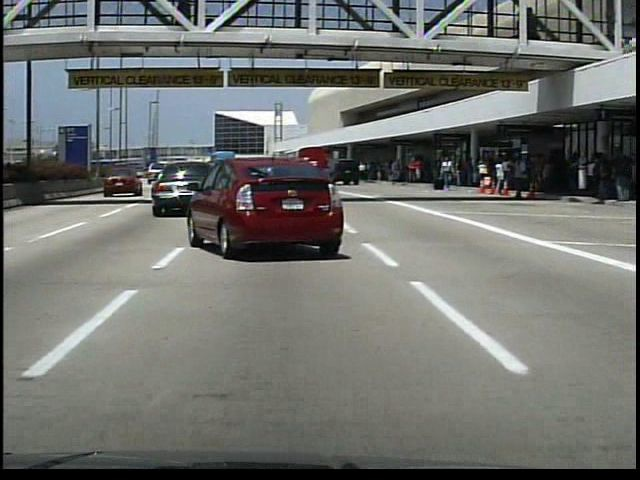person: (508, 152, 532, 205), (439, 157, 457, 193), (177, 1, 194, 29), (409, 157, 421, 185), (357, 163, 367, 181)
